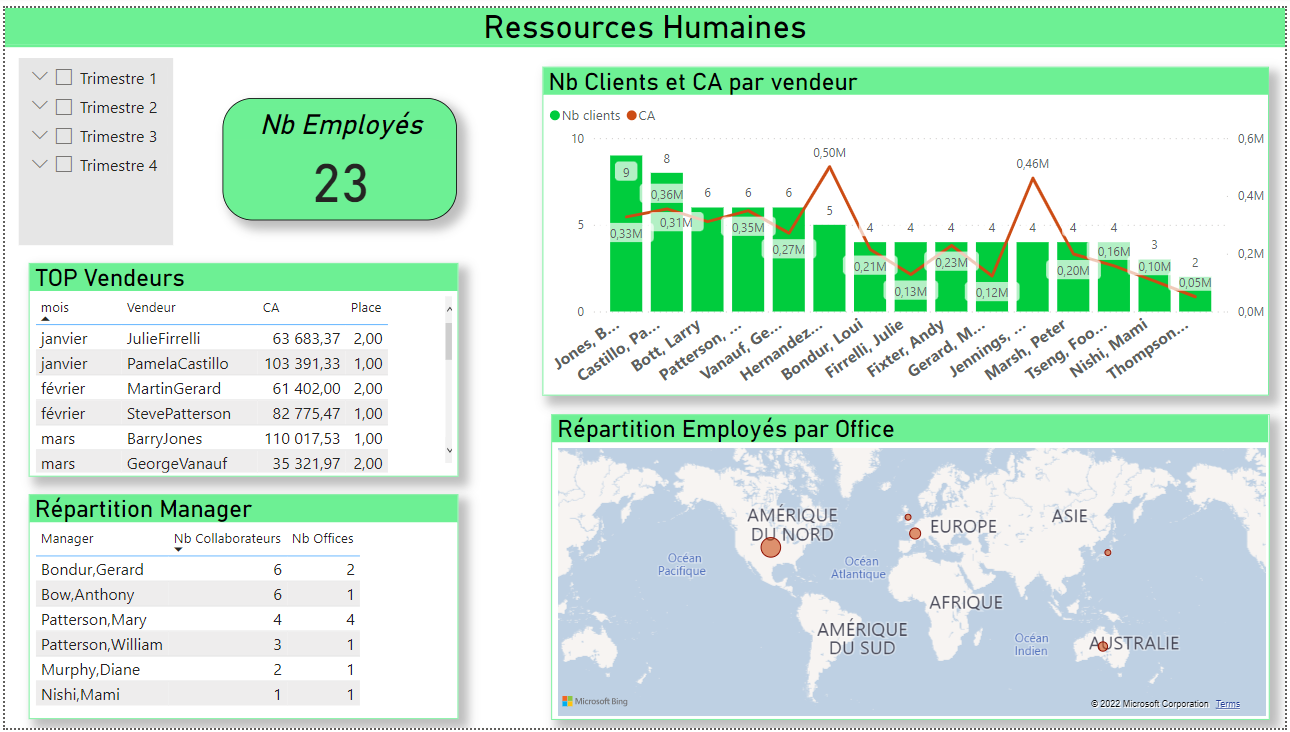

The dashboard page shown, as its layout file describes it:
{"tool":"powerbi","page":{"name":"RH","canvas":[1280,720],"ordinal":2},"visuals":[{"type":"lineStackedColumnComboChart","title":"Nb Clients et CA par vendeur","fields":{"Category":["Requête1.lastname_firstname"],"Y":["Sum(Requête1.total_customer_by_saler)"],"Y2":["Sum(Requête1.CA)"]},"box":[537.7,58.4,726.2,328.8],"z":0},{"type":"tableEx","title":"Répartition Manager","fields":{"Values":["Requête1.fullName_manager","Sum(Requête1.number_employes)","Sum(Requête1.number_country)"]},"box":[23.7,486.2,429.4,224.8],"z":1000},{"type":"map","title":"Répartition Employés par Office","fields":{"Size":["Sum(Requête1.nombre_employes)"],"Category":["Requête1.country"]},"box":[546.5,405.8,718.1,305.2],"z":2000},{"type":"tableEx","title":"TOP Vendeurs","fields":{"Values":["HR - Table mois.mois","HR - 2 Best Sellor.sellor","Sum(HR - 2 Best Sellor.turnover)","Sum(HR - 2 Best Sellor.rank_best_sellor)"]},"box":[23.4,254.6,429.4,213.3],"z":3000},{"type":"card","title":"Nb Employés","fields":{"Values":["Sum(HR - Effectif / pays.nombre_employes)"]},"box":[217.6,90.5,234.7,122.2],"z":4000},{"type":"shape","title":"Ressources Humaines","box":[0,0,1280.2,38.9],"z":5000},{"type":"slicer","fields":{"Values":["HR - Table mois.Trimestre","HR - Table mois.mois"]},"box":[13.8,49.5,154.2,187.2],"z":6000}]}

Visuals, with their boxes in screenshot pixels (x1, y1, x2, y2), scaled from the page's 1280x720 canvas onto the 1290x732 screenshot:
"Nb Clients et CA par vendeur" lineStackedColumnComboChart: left=542, top=59, right=1274, bottom=394
"Répartition Manager" tableEx: left=24, top=494, right=457, bottom=723
"Répartition Employés par Office" map: left=551, top=413, right=1274, bottom=723
"TOP Vendeurs" tableEx: left=24, top=259, right=456, bottom=476
"Nb Employés" card: left=219, top=92, right=456, bottom=216
"Ressources Humaines" shape: left=0, top=0, right=1289, bottom=40
slicer - HR - Table mois.Trimestre x HR - Table mois.mois: left=14, top=50, right=169, bottom=241
